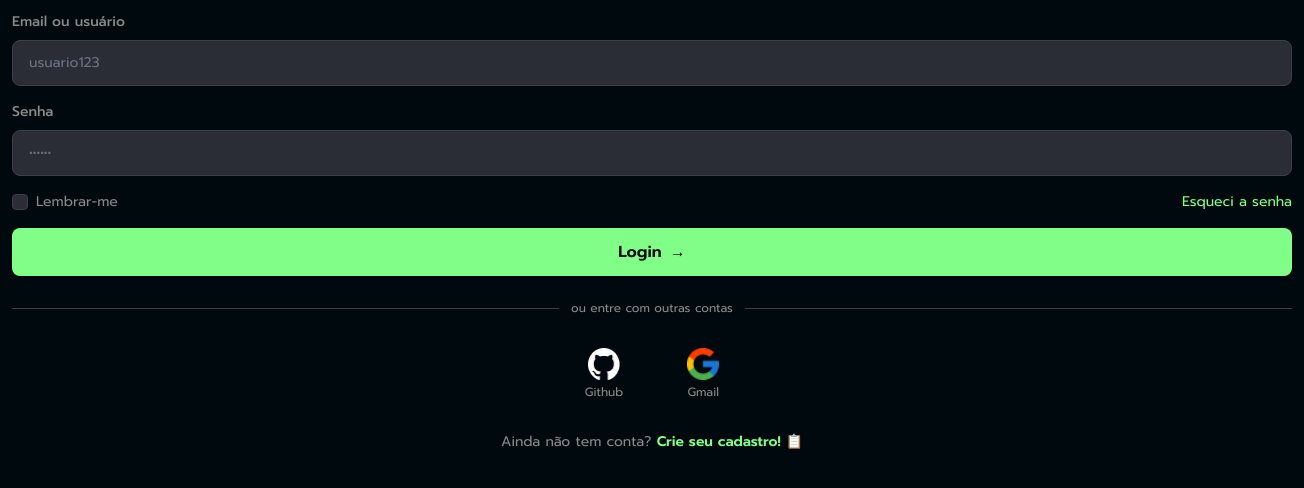
Test case: LoginForm › shows password length error when too short
Type "user" into the field labelled "Email ou usuário" at coordinates (652, 63), box x1=12 y1=40 x2=1292 y2=86
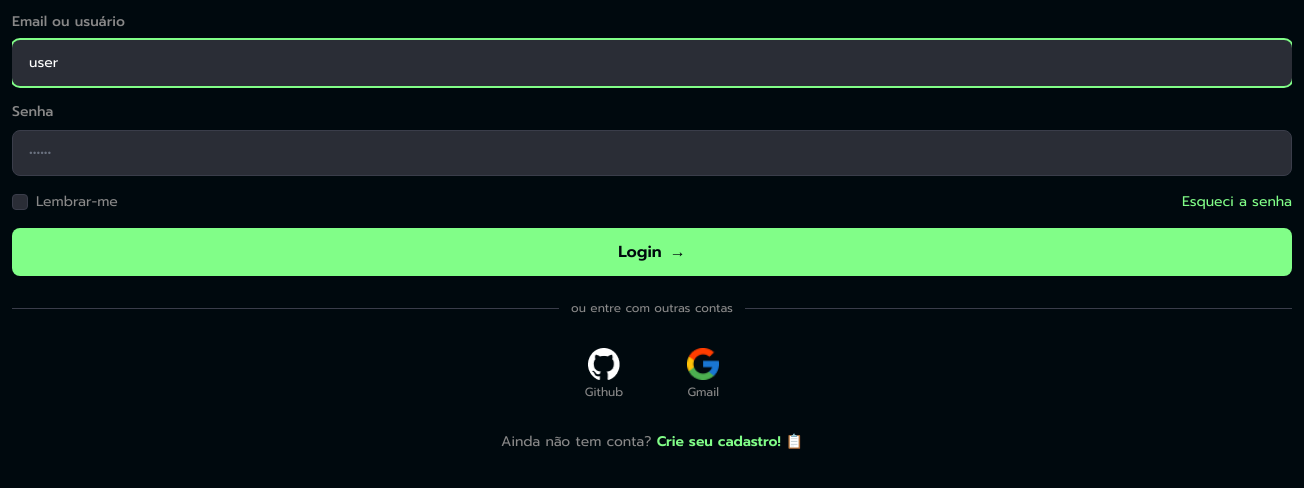
Type "123" into the password field labelled "Senha" at coordinates (652, 153), box x1=12 y1=130 x2=1292 y2=176
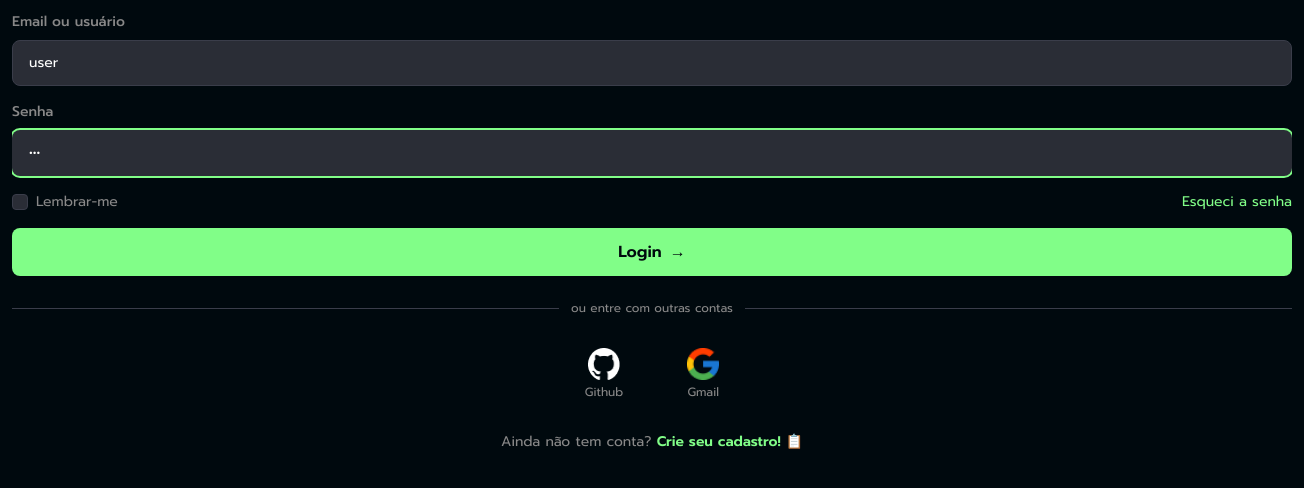
Click the button "Login →" at coordinates (652, 252), box x1=12 y1=228 x2=1292 y2=276
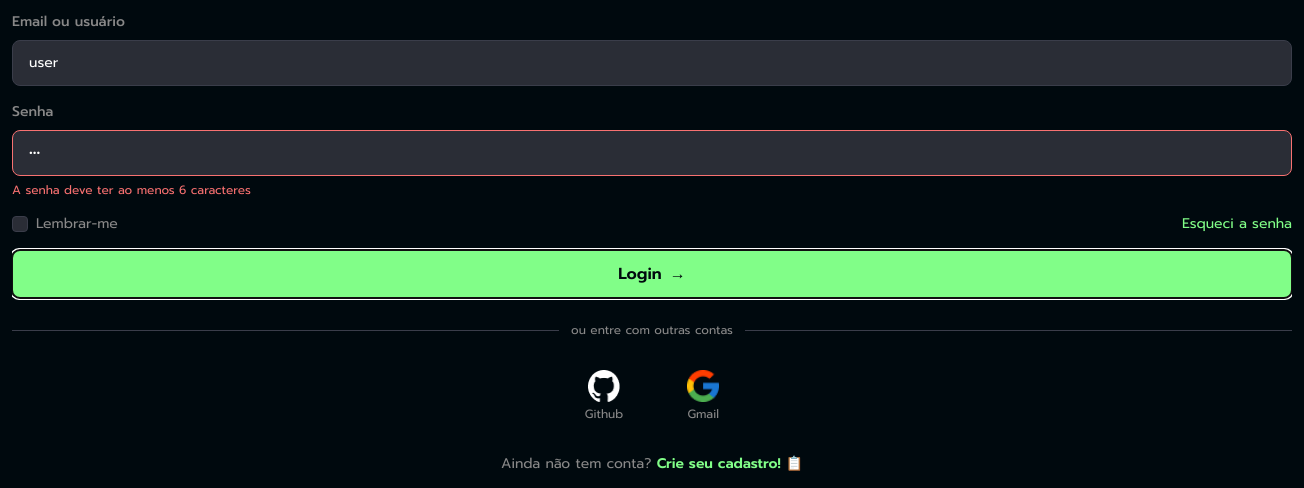
Expected: the text "A senha deve ter ao menos 6 caracteres" is shown, x1=12 y1=181 x2=251 y2=199
